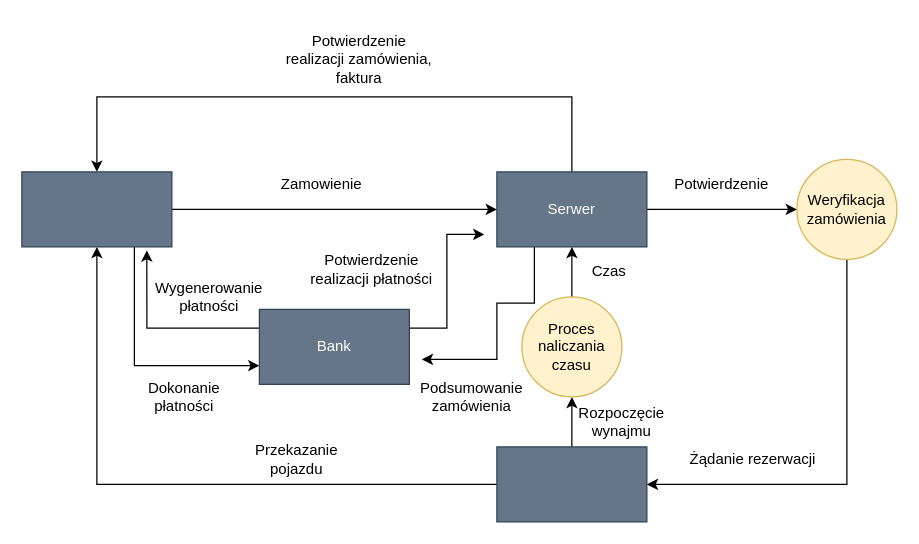
This 919x544 diagram has some shape labels left out. The shapes that lost their labels are listed below. From the top down, each one's centre as x and y in pixels, then its label:
the point at 96,209: Klient
the point at 571,484: Pojazd
